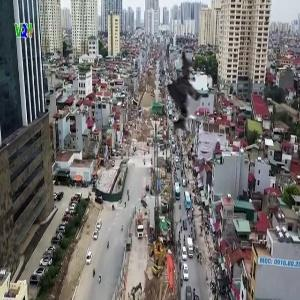drone: (136, 47, 230, 141)
